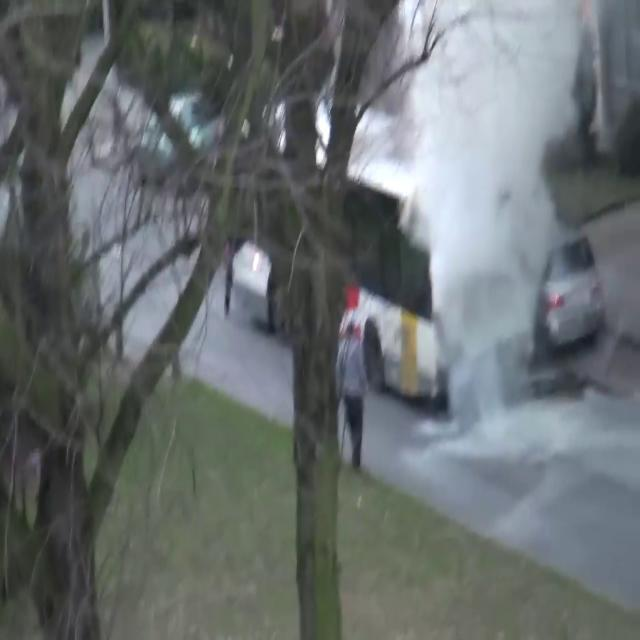Smoke: (387, 0, 611, 476)
